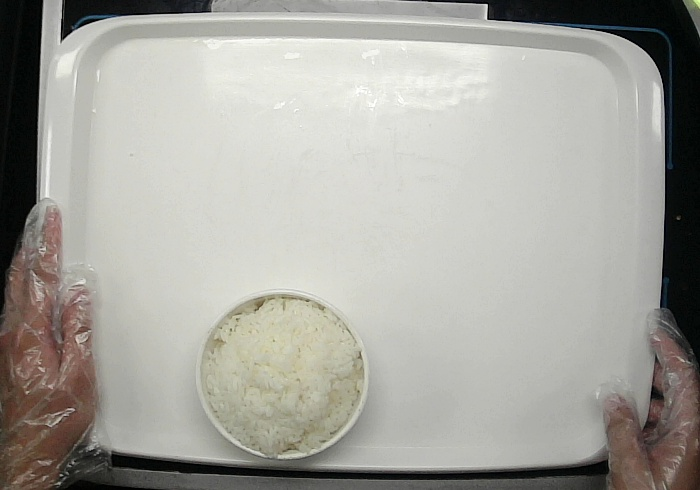HZYJPL-Fan_Wan: (195, 289, 371, 461)
